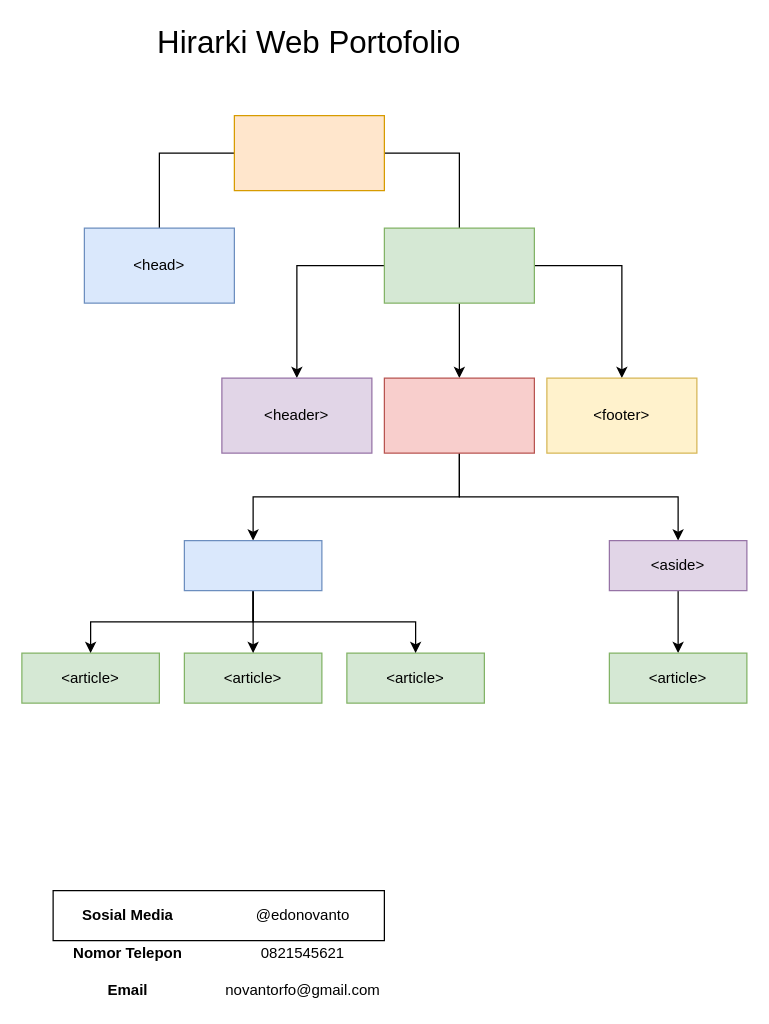
Image size: 769x1024. Some labels were removed from this diagram. The box of each missing label's shape, as (x1, y1, x2, y2) in pixels:
<body>: (383, 227, 534, 303)
<div>: (183, 539, 322, 591)
<html>: (233, 114, 384, 191)
<main>: (383, 377, 534, 453)
